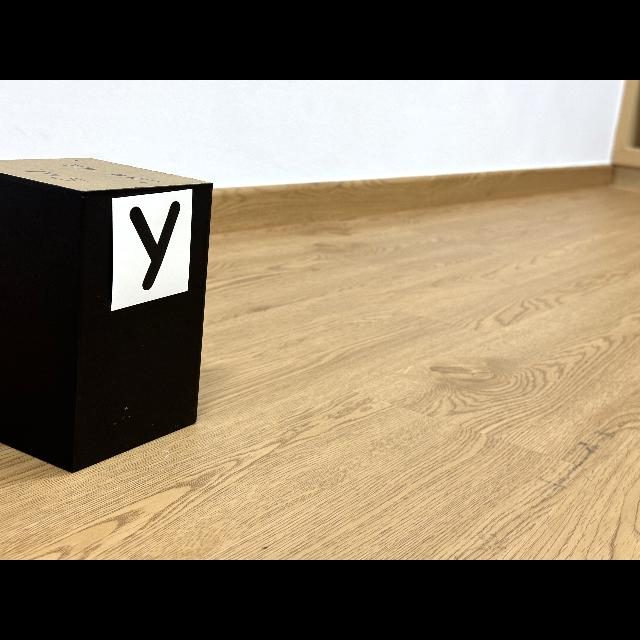Y: (130, 201, 180, 290)
